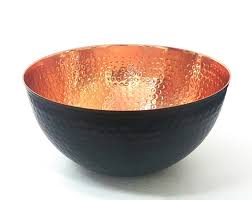bowl: (20, 39, 234, 182)
